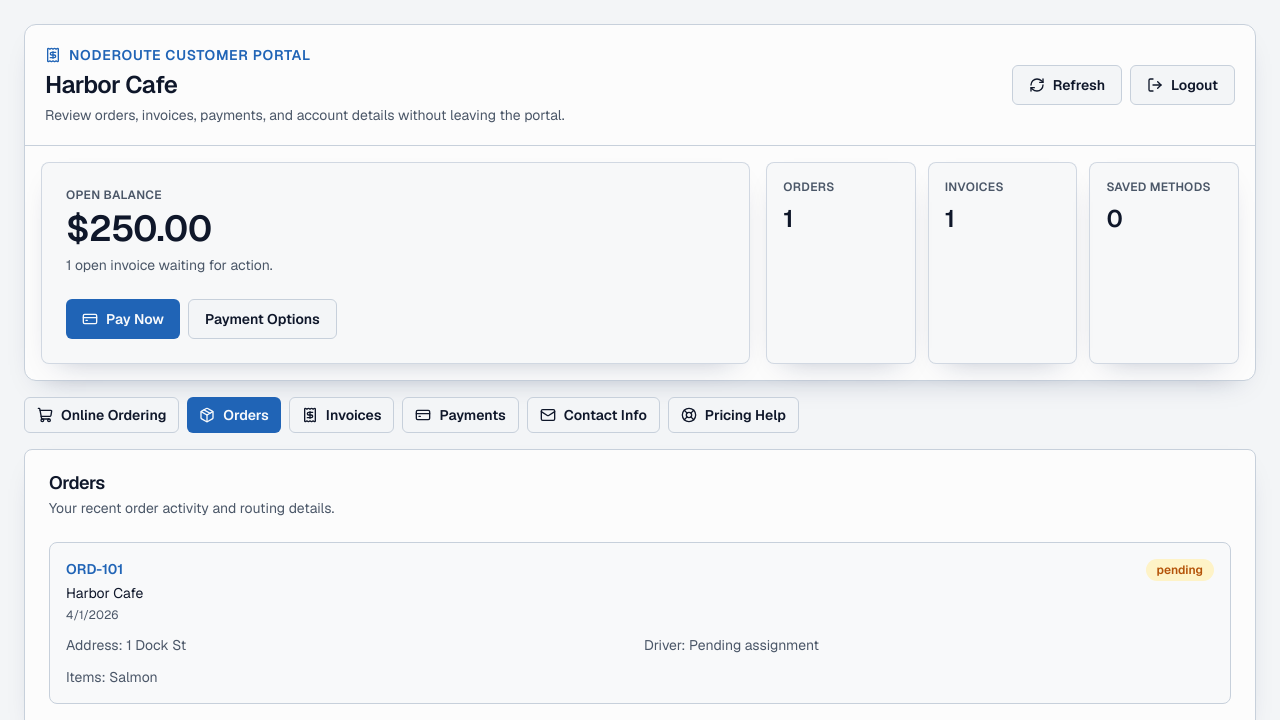
Scenario: CustomerPortalPage › renders invoice display and order history for an authenticated customer
Expected: the text "ORD-101" is shown, [66,560,123,578]
Click the button "Invoices": click(342, 415) [289,397,394,433]
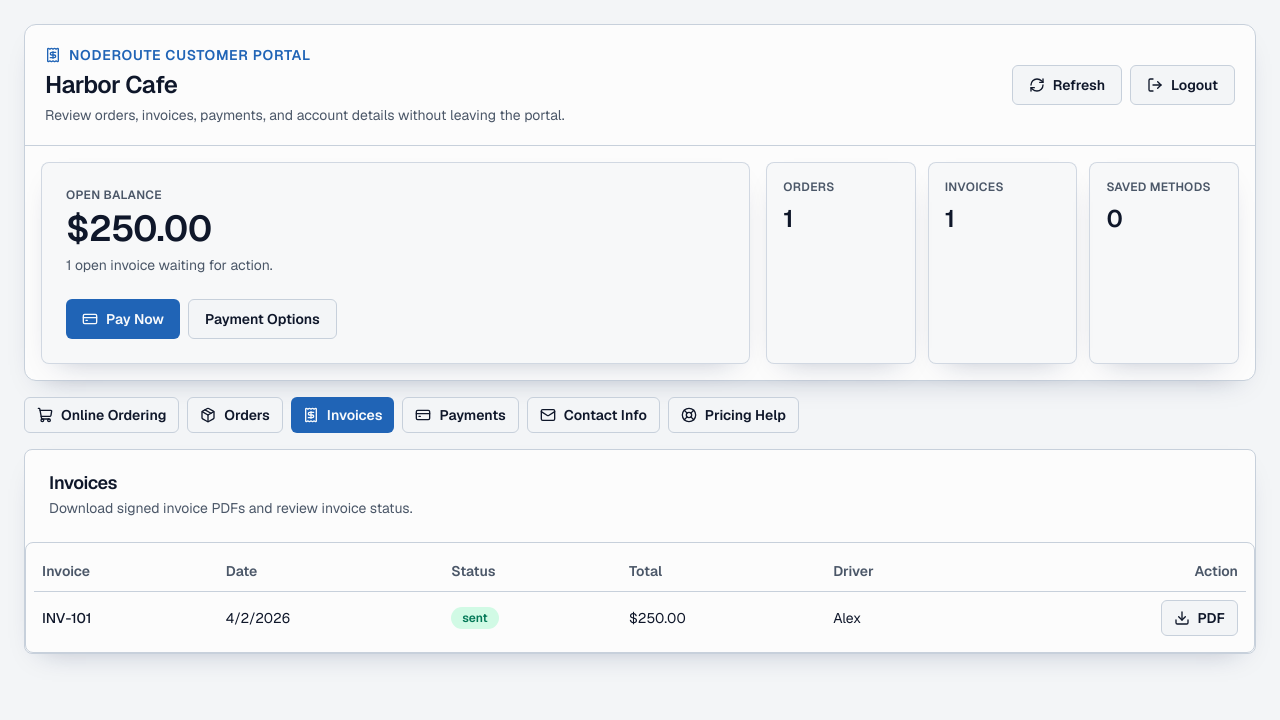
Expected: the heading "$250.00" is shown, [66,205,212,252]
Now the text "INV-101" is shown, box [34,591,218,644]
Now the button "PDF" is shown, box [1160,600,1238,636]
